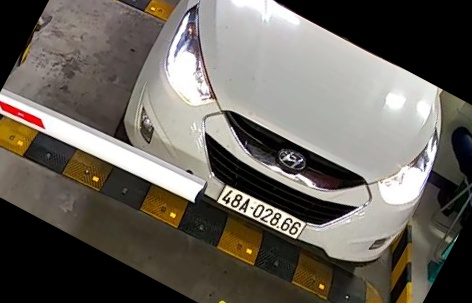plate: (215, 180, 305, 238)
